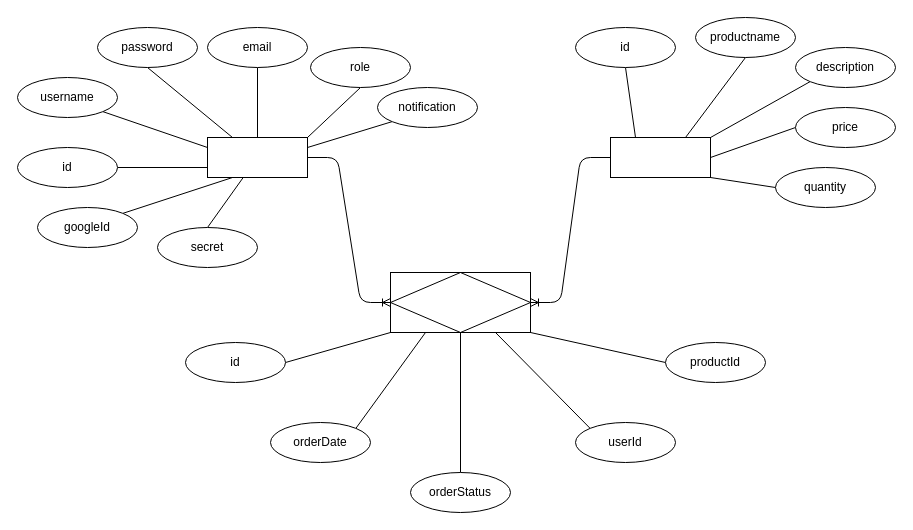
Some shapes in this 913 by 530 pixel diagram are drawn without their labels. The box of each missing label's shape, as (x1, y1, x2, y2) in pixels:
orders: (390, 272, 530, 332)
products: (610, 136, 710, 178)
users: (206, 136, 308, 178)
